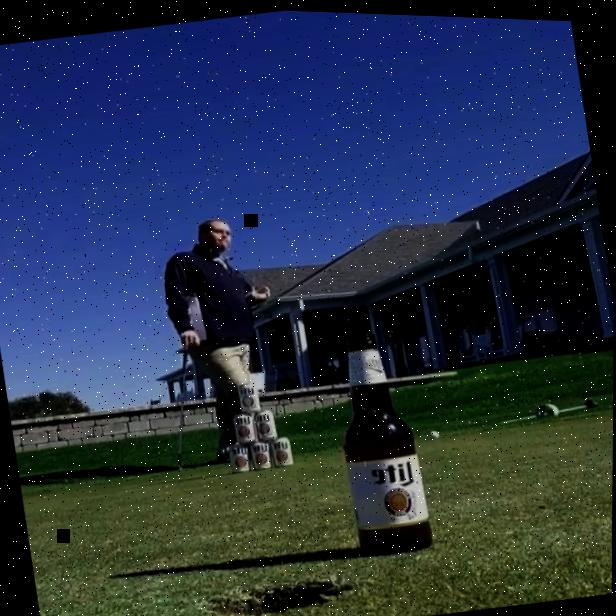ClubHead: (175, 343, 189, 354)
GolfBall: (429, 426, 441, 436)
